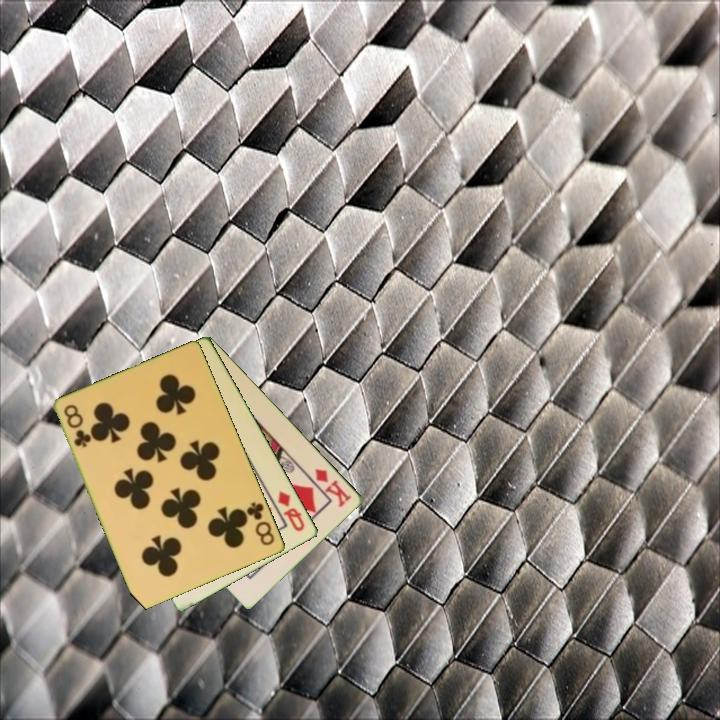8c: (243, 498, 278, 549), (61, 401, 94, 450)
Kd: (312, 465, 355, 510)
Qd: (274, 487, 308, 535)
